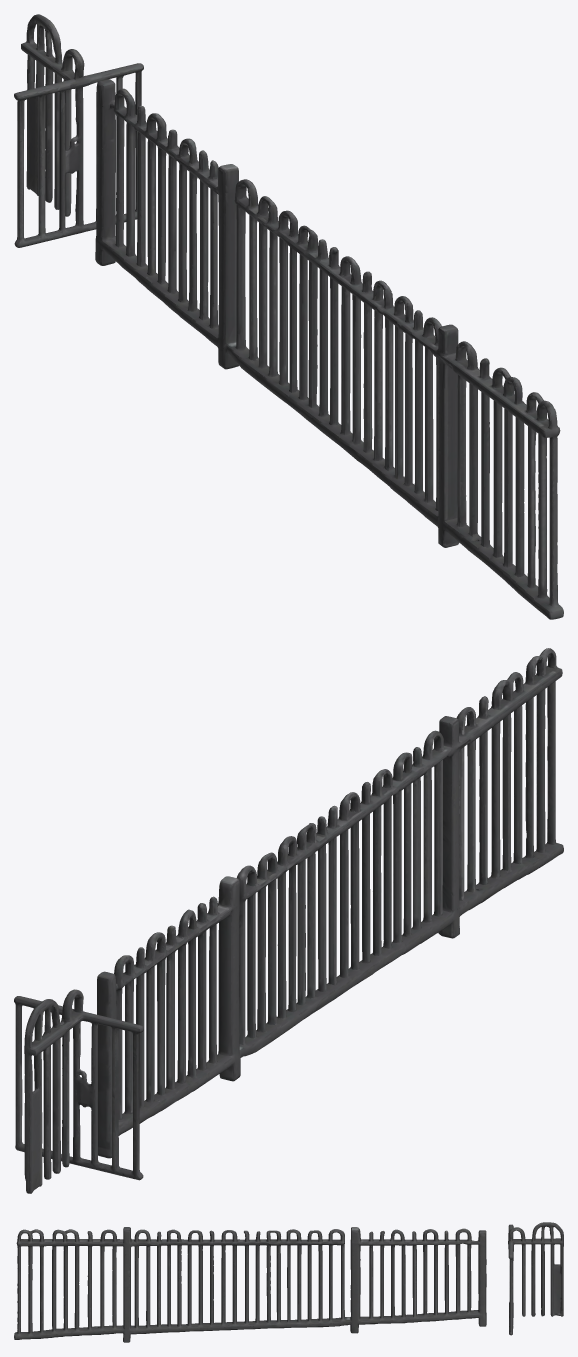
The model's file is snow-ice-v9.glb.
The picture shows the model from 3 angles, top to bottom: view 1: azimuth 30°, elevation 25°; view 2: azimuth 150°, elevation 25°; view 3: azimuth 270°, elevation 25°; orthographic projection. The views are drawn at different scales.
Visible parts, largest first — view 1: geometry_0; view 2: geometry_0; view 3: geometry_0.
Boxes of the visible parts, x1=… form: geometry_0: x1=14, y1=14, x2=563, y2=619; geometry_0: x1=14, y1=648, x2=563, y2=1193; geometry_0: x1=14, y1=1222, x2=563, y2=1342.
Size of the model in its own units: 10 by 17.13 by 71.74.
Materials: 1 (1 with a texture image).
